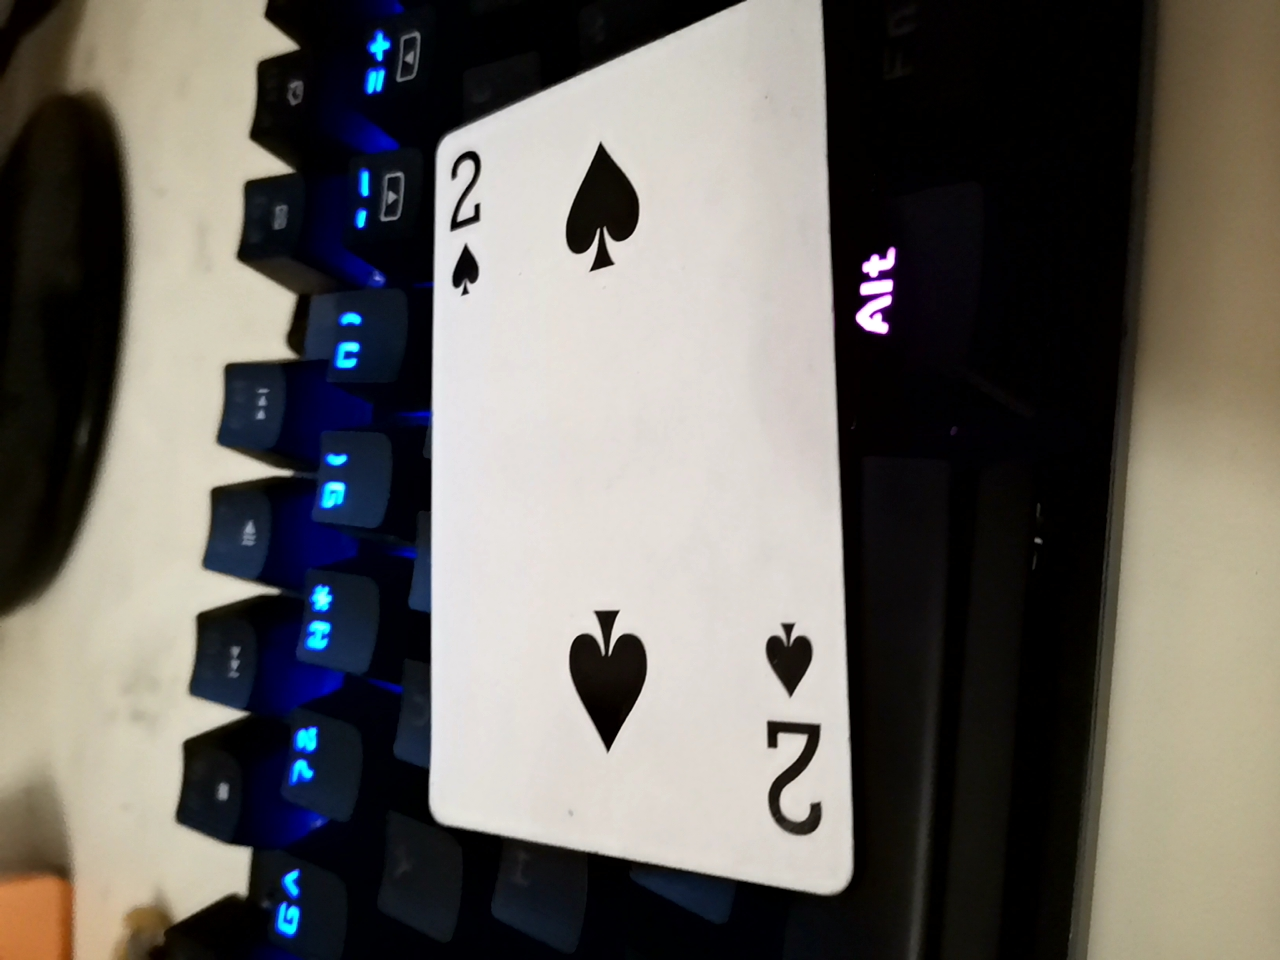ht 2: (418, 23, 860, 875)
